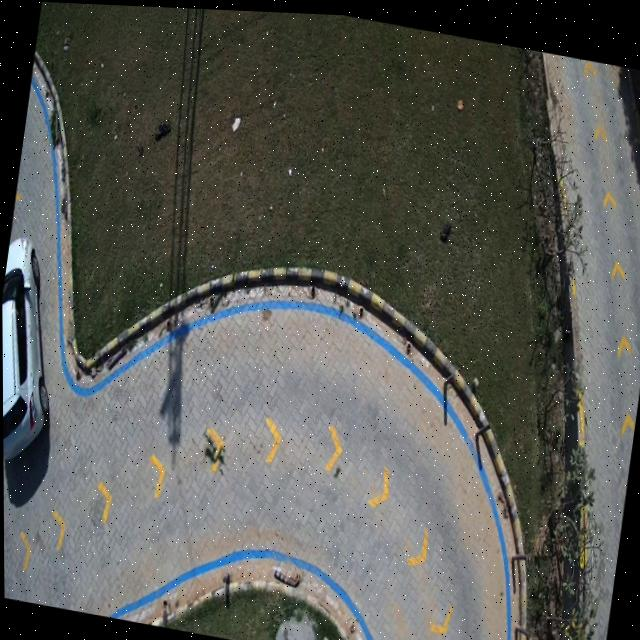car: (2, 238, 48, 460)
